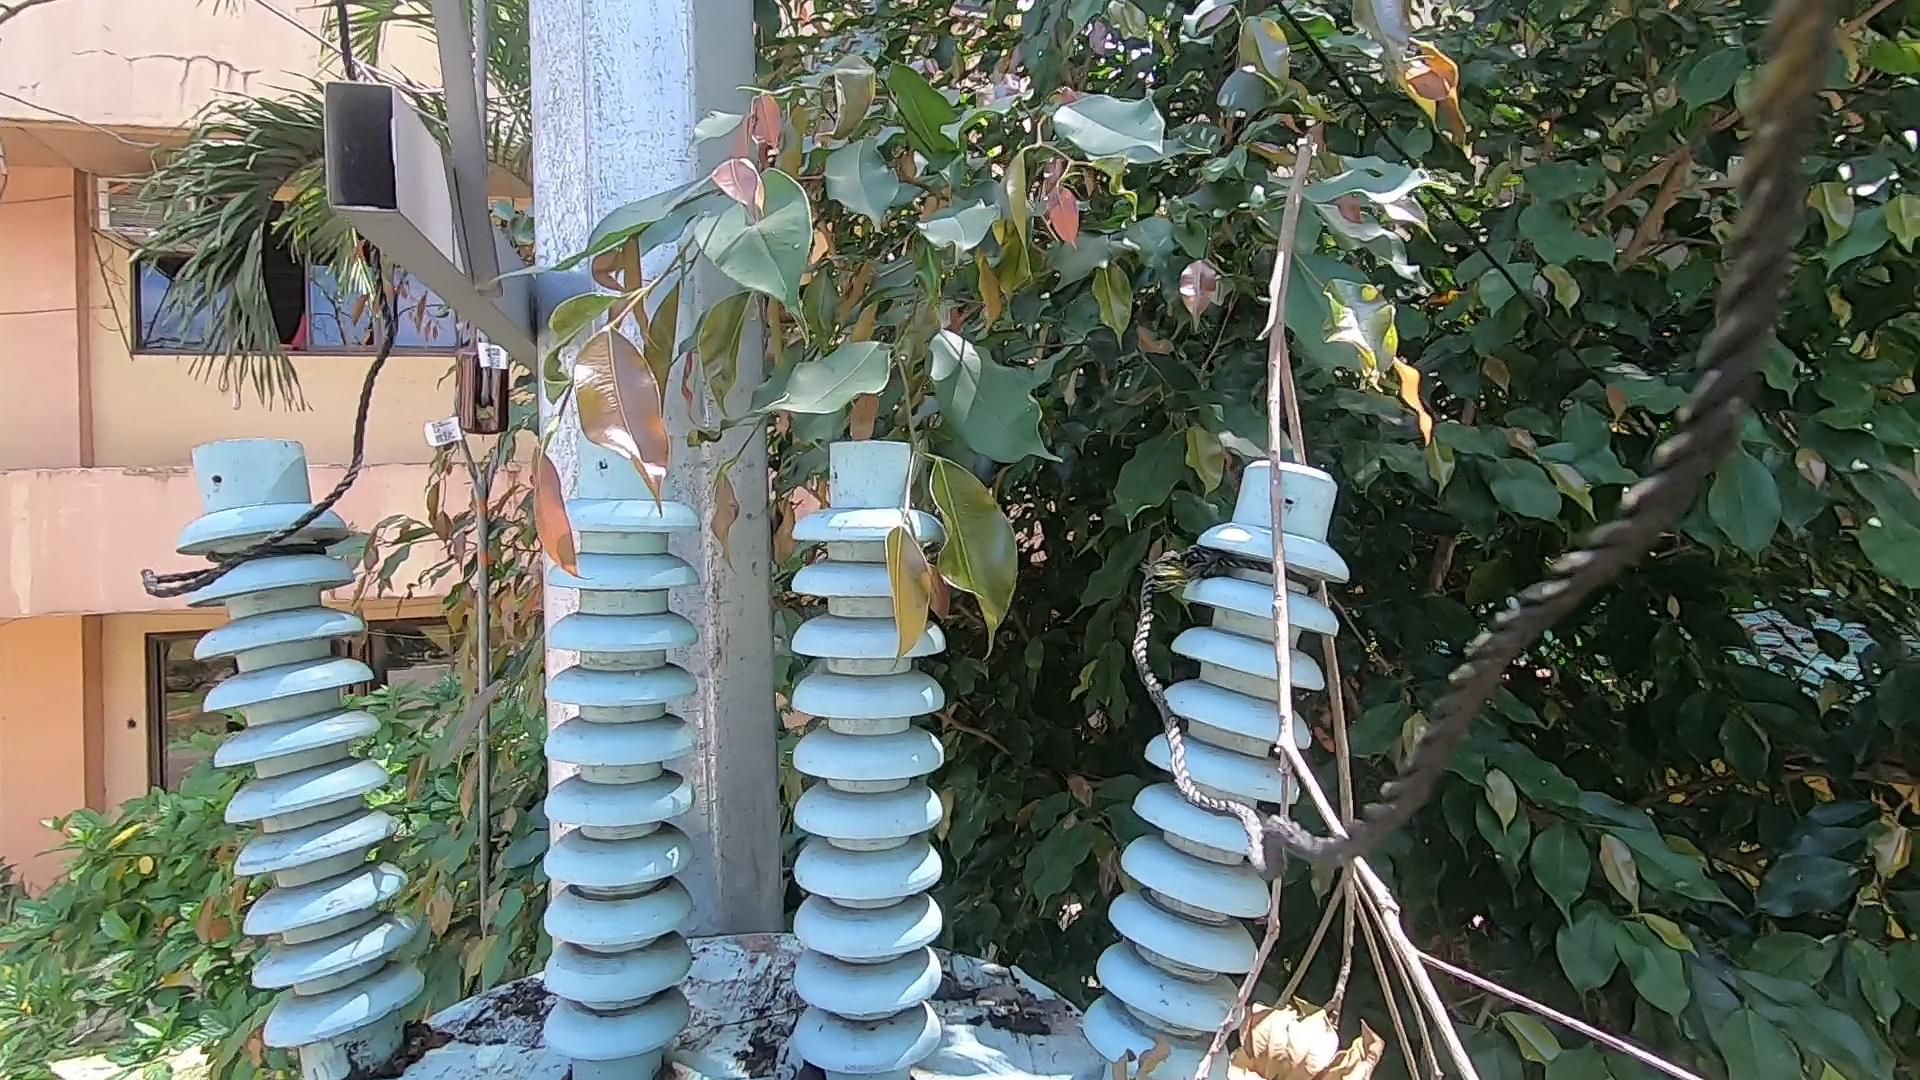branch with leaves: (1097, 88, 1701, 1080)
tree branch: (702, 1002, 804, 1039)
